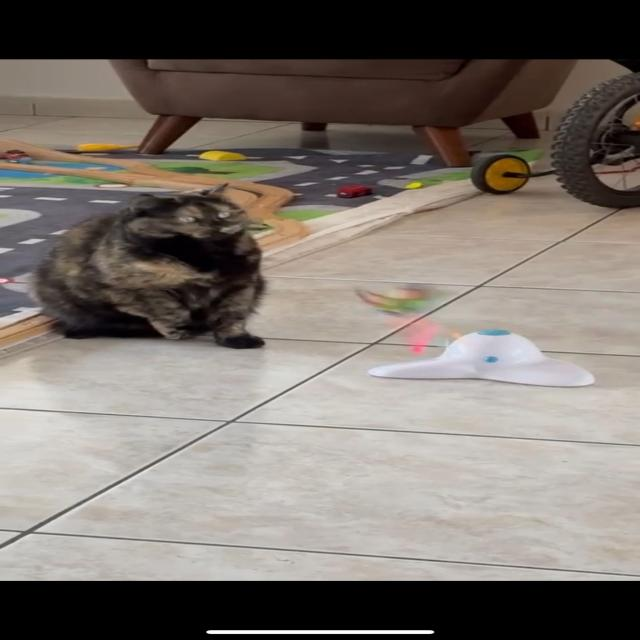authorized: (28, 182, 267, 350)
